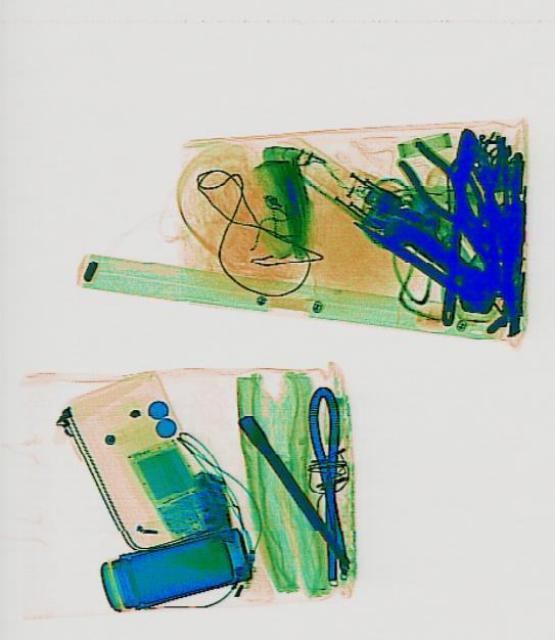Pliers: (389, 134, 506, 264)
Wrench: (433, 121, 478, 326)
